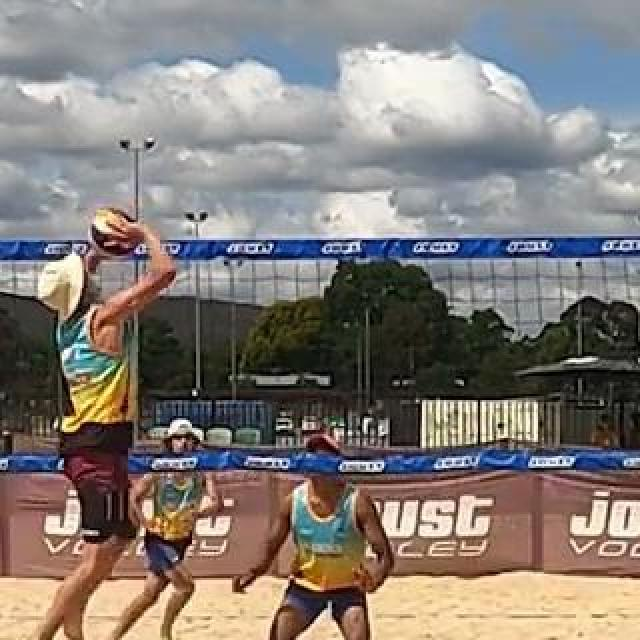volleyball: (88, 207, 136, 257)
